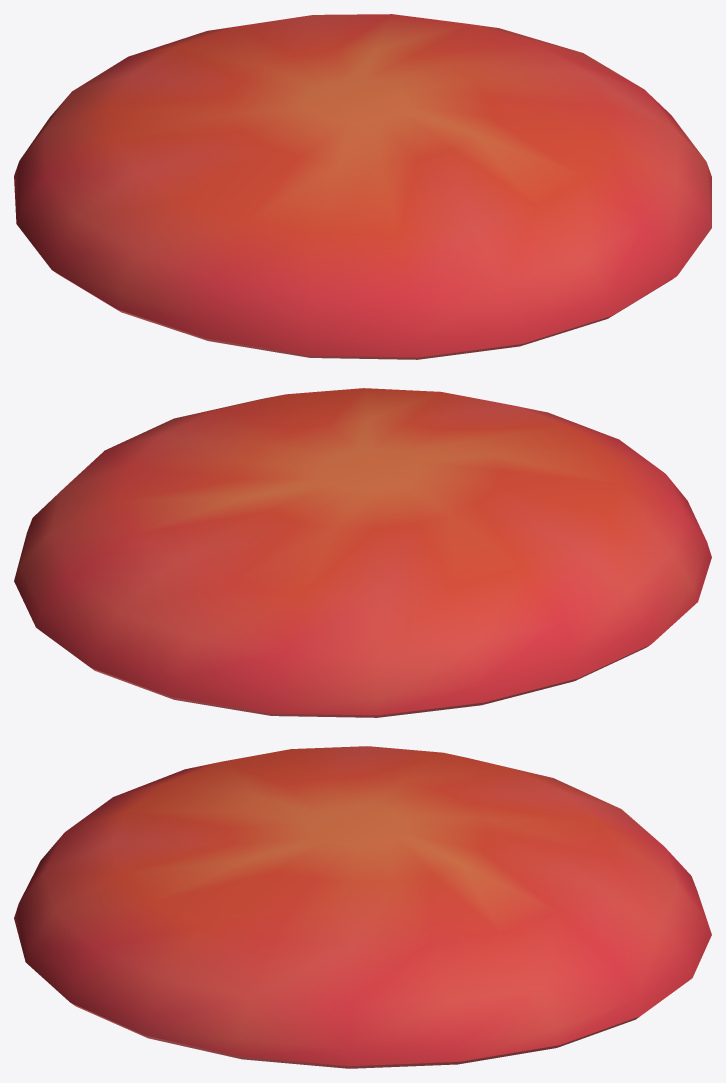
The model's file is MushroomCap1.fbx.
3 views of the same model, one above another, from view 1: azimuth 30°, elevation 25°; view 2: azimuth 150°, elevation 25°; view 3: azimuth 270°, elevation 25° (orthographic). The views are drawn at different scales.
Visible parts, largest first — view 1: Mushroom1; view 2: Mushroom1; view 3: Mushroom1.
Part boxes in pixels (bbox=[...]): Mushroom1: bbox=[14, 14, 711, 359]; Mushroom1: bbox=[14, 388, 711, 717]; Mushroom1: bbox=[14, 746, 711, 1068].
Size of the model in its own units: 2098 by 400 by 2181.
